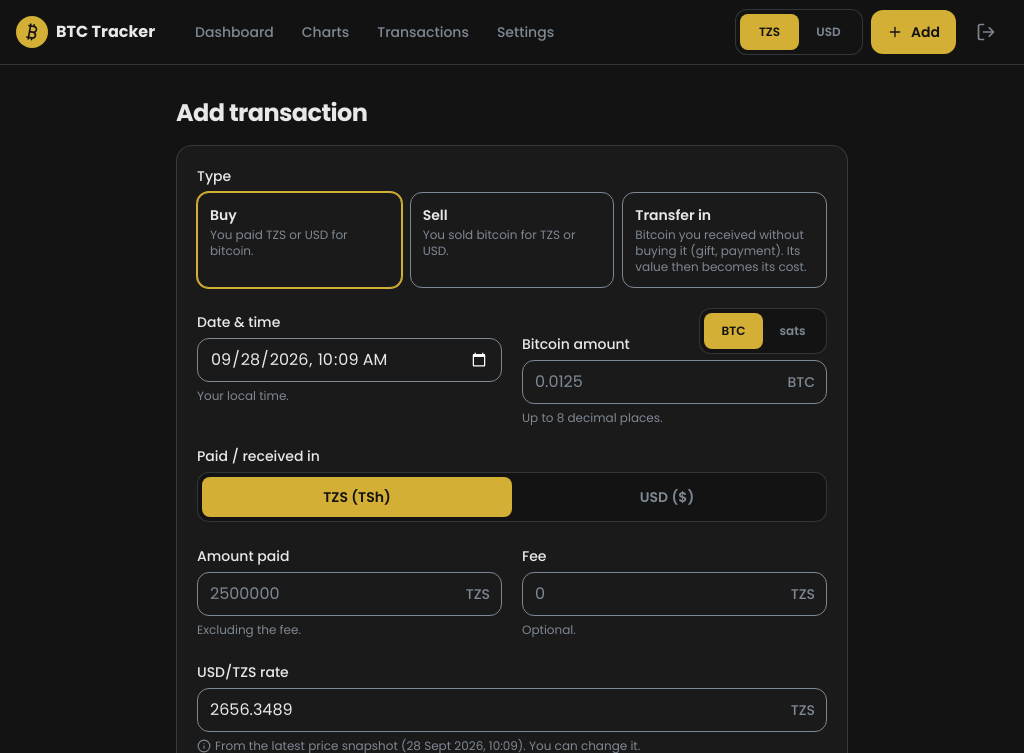
Scenario: Add transaction form › shows current holdings on a sell and warns when selling more
Click the radio button labelled "Sell You sold bitcoin for TZS or USD.". click: (512, 240)
box: [410,192,614,288]
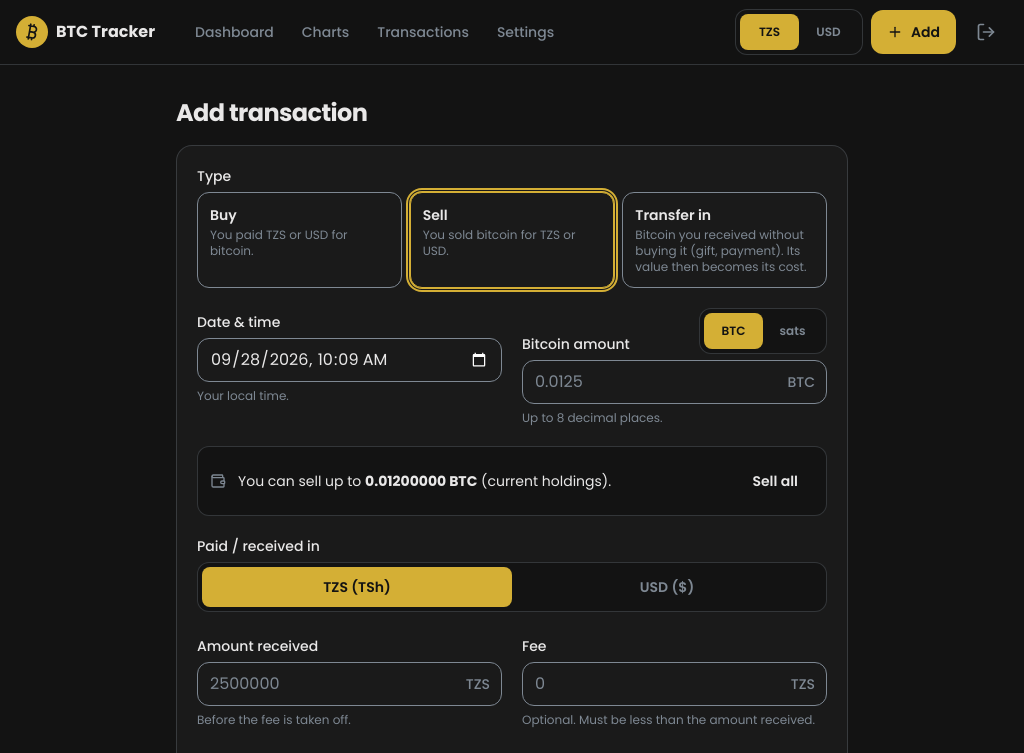
Expected: the text "0.01200000 BTC" is shown, [365,471,477,491]
Type "0.5" into the field labelled "Bitcoin amount". click: (674, 382)
box: [522,360,827,404]
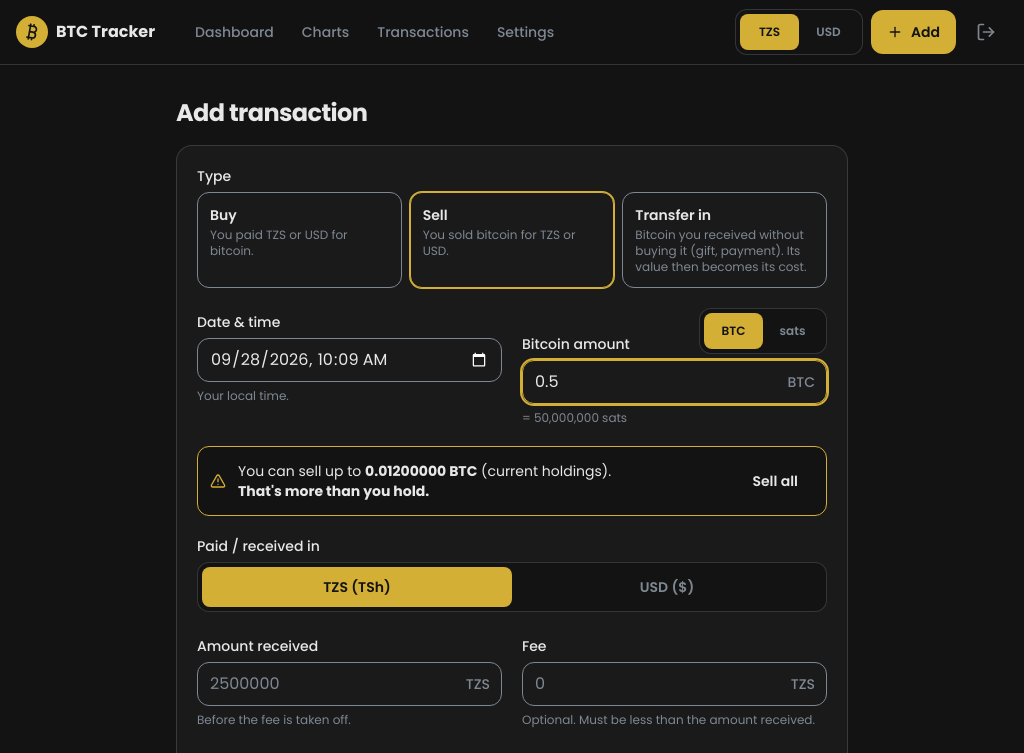
Expected: the text "That's more than you hold." is shown, [238,481,429,501]
